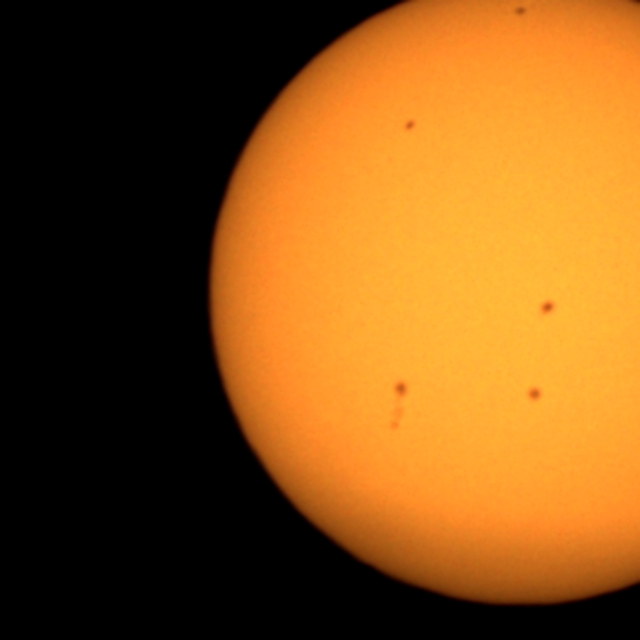sunspot: (391, 378, 411, 400), (524, 385, 544, 405), (538, 298, 558, 318), (402, 118, 418, 134), (512, 4, 529, 18)
